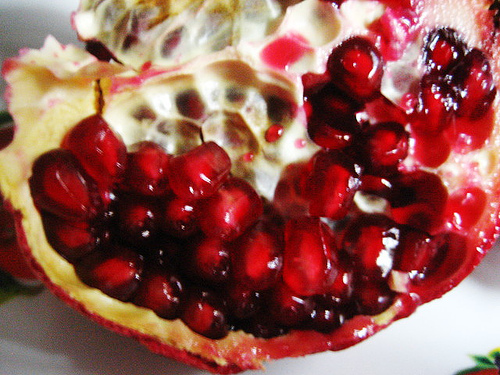pomogranate: (0, 2, 499, 374)
